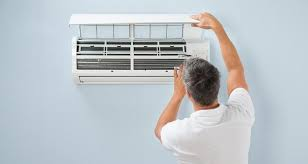ac: (66, 10, 216, 94)
